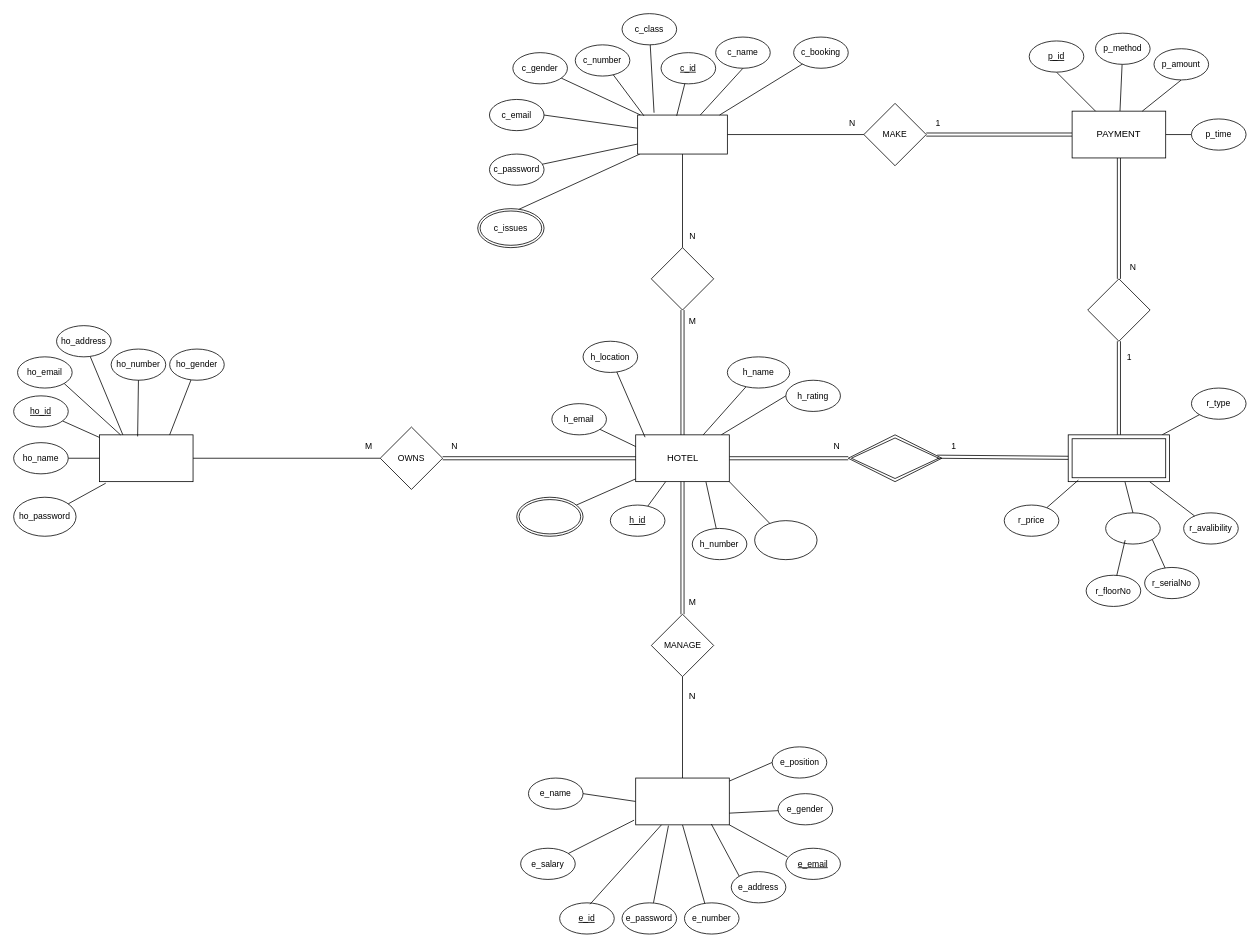
This 1260x948 diagram has some shape labels left out. The centre of each missing label's shape, as x and y in pixels:
CONFIRMS: the point at 1118,309
CUSTOMER: the point at 682,134
EMPLOYEE: the point at 682,801
h_features: the point at 549,516
h_incentive: the point at 785,540
HAS: the point at 894,458
HOTEL_OWNER: the point at 146,458
r_roomNo: the point at 1132,528
ROOM: the point at 1118,458
VIEWS: the point at 682,278
